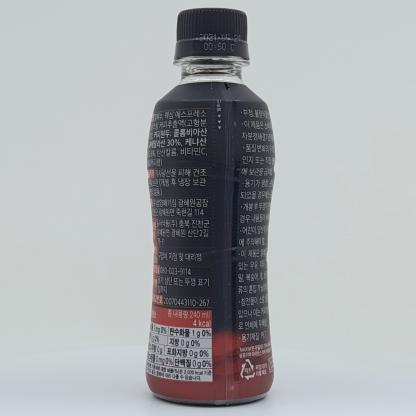--TOP--------240ML: (145, 7, 275, 408)
